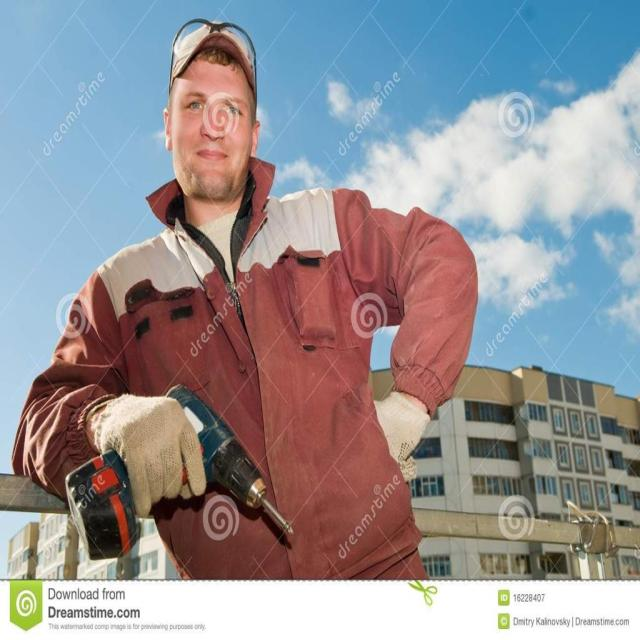Face: (163, 58, 257, 203)
